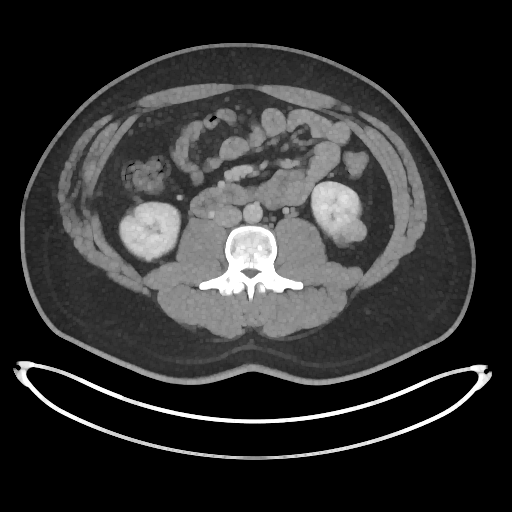Lesion: (338, 216, 371, 242)
